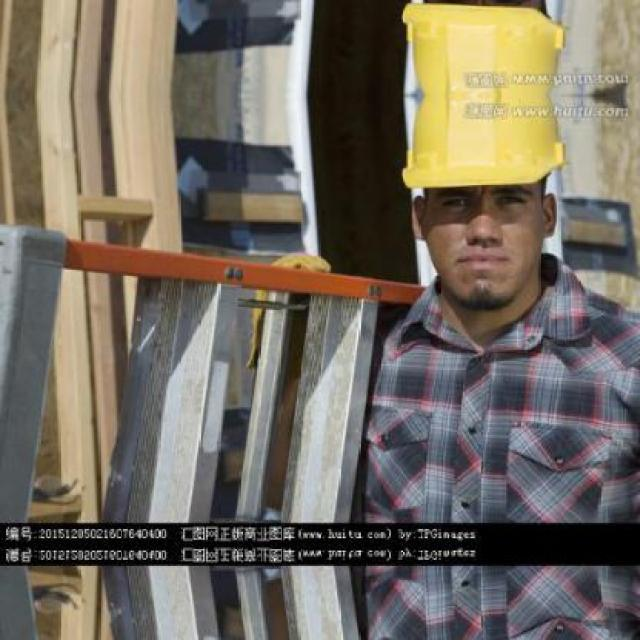helmet: (379, 95, 581, 317), (378, 0, 582, 97)
